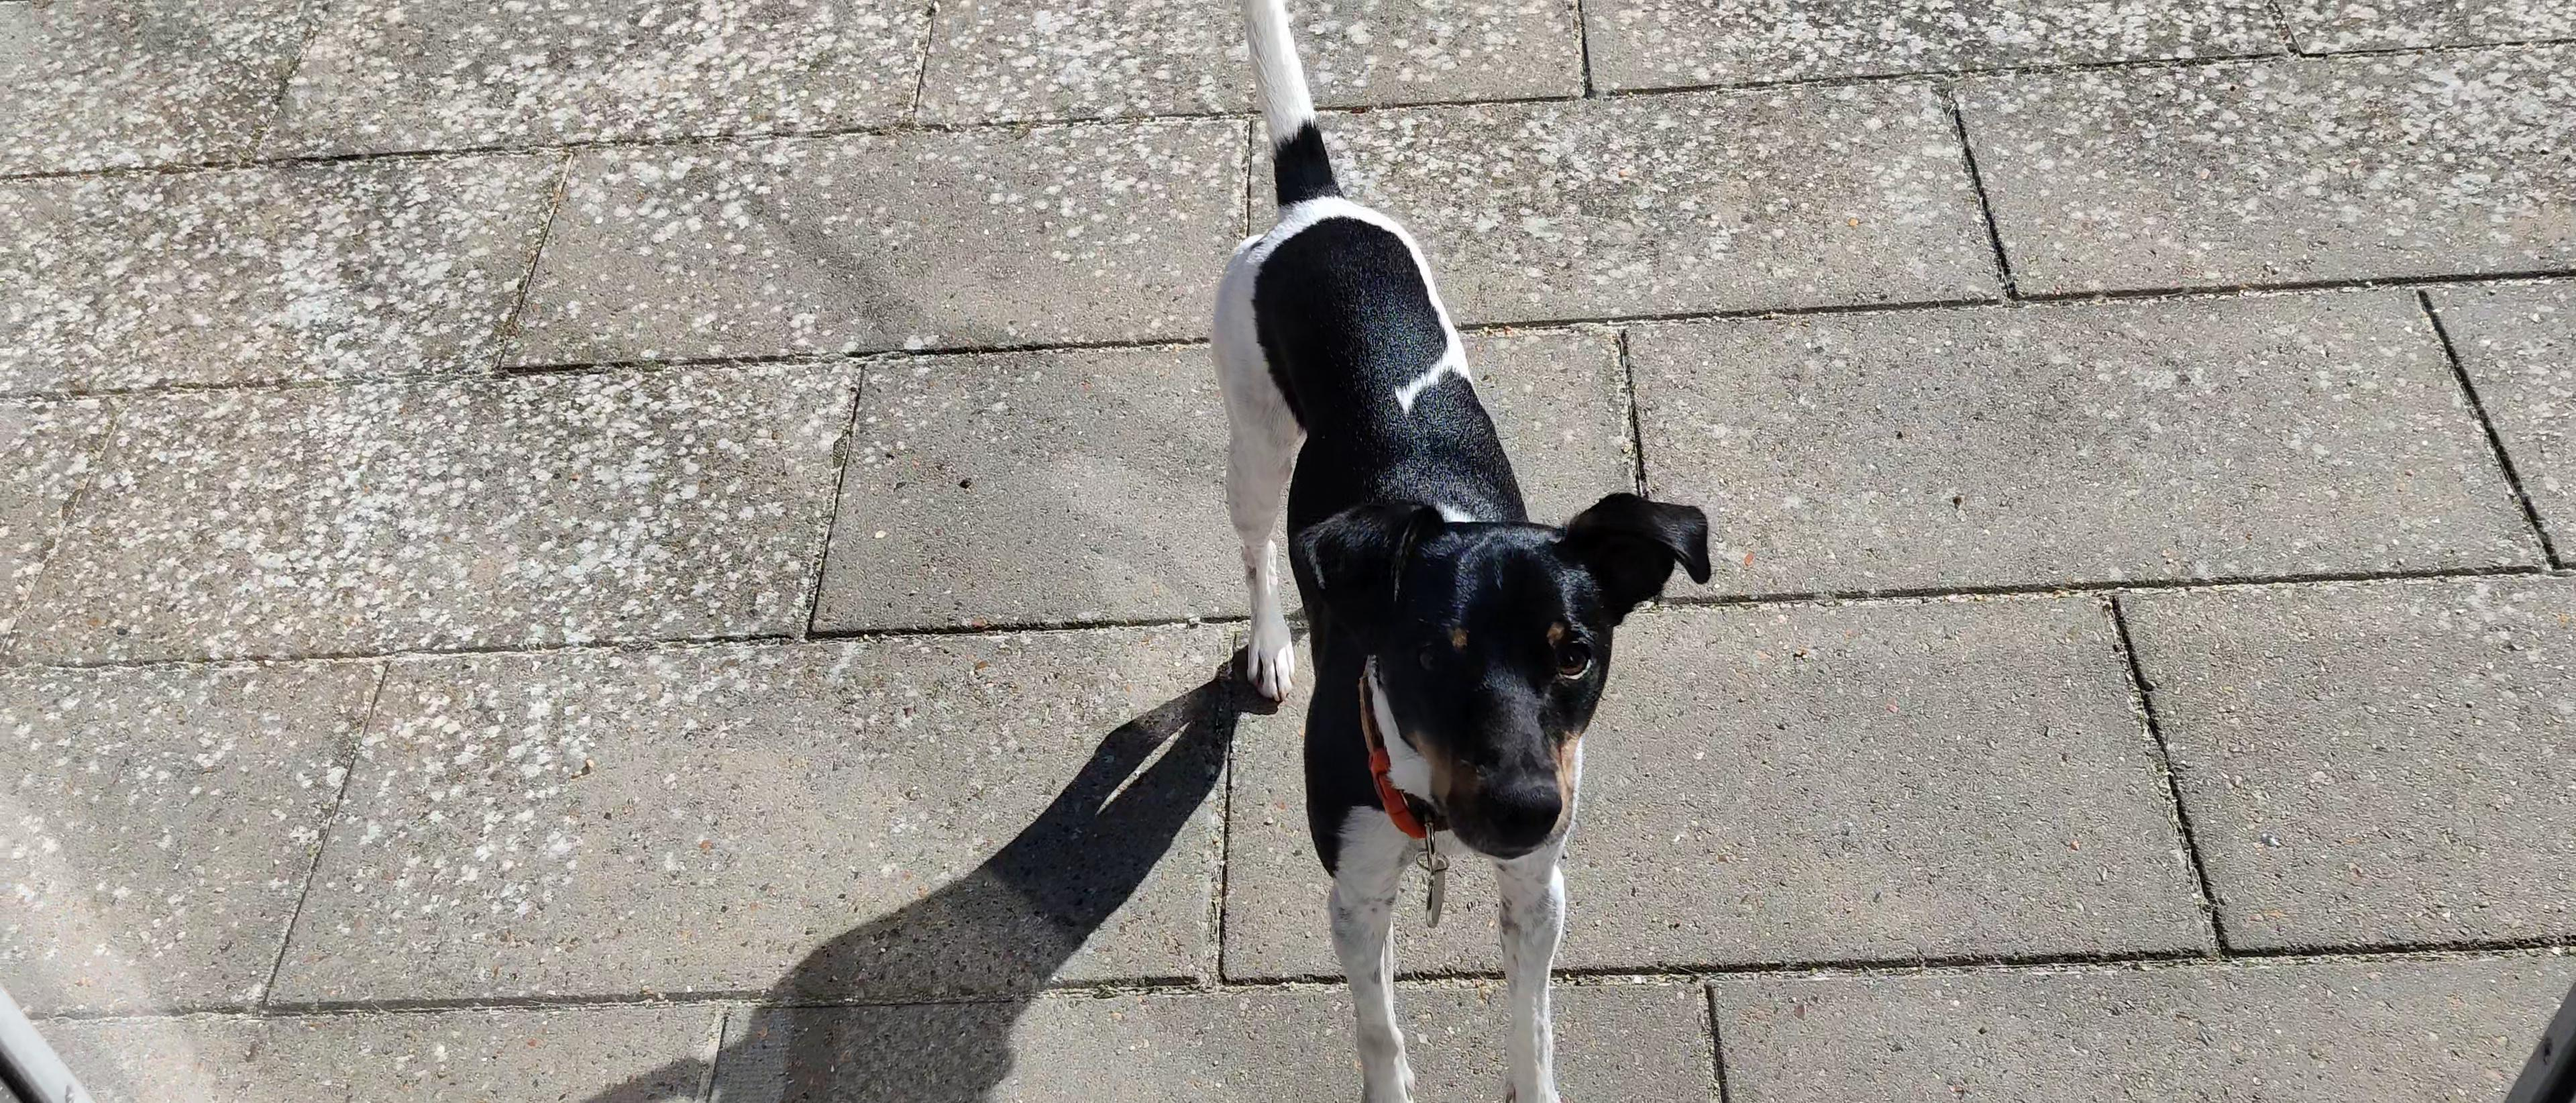Dog: (1196, 0, 1727, 1103)
